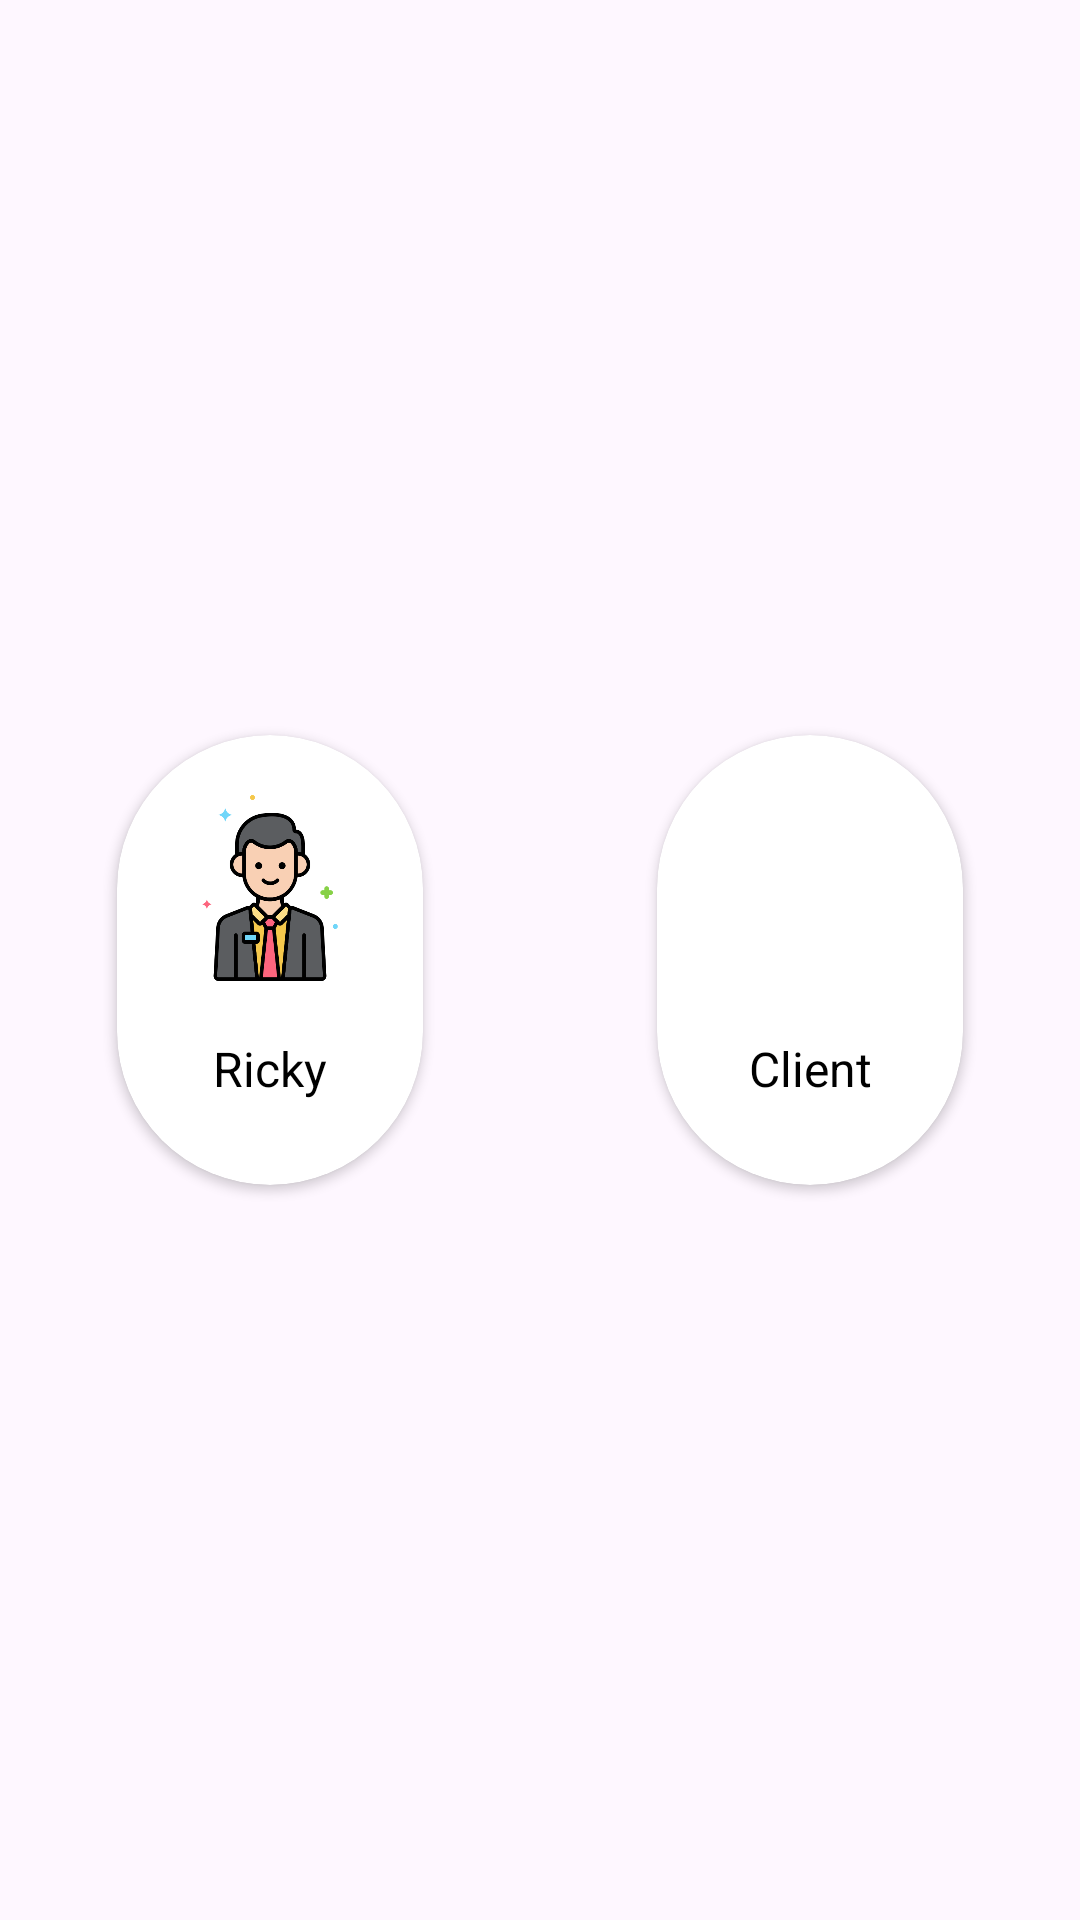

Icons on this 1080 x 1920 Android screen, each with the point to tap as (x,y):
employer: (270,888)
